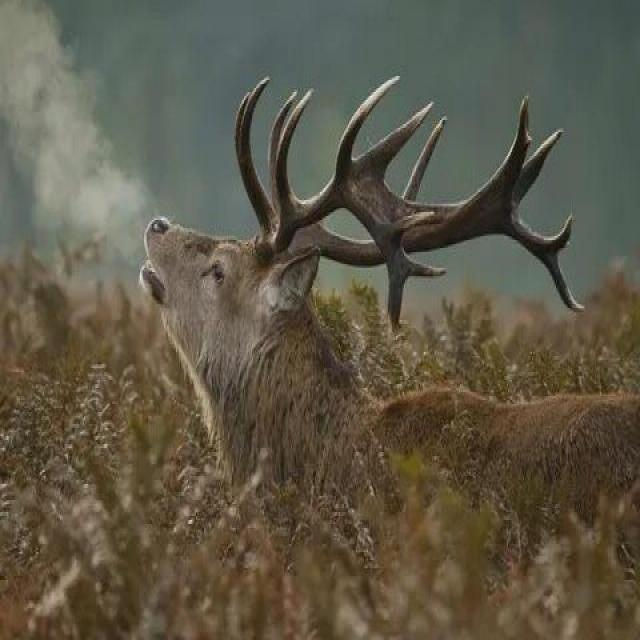deer: (125, 86, 640, 639)
